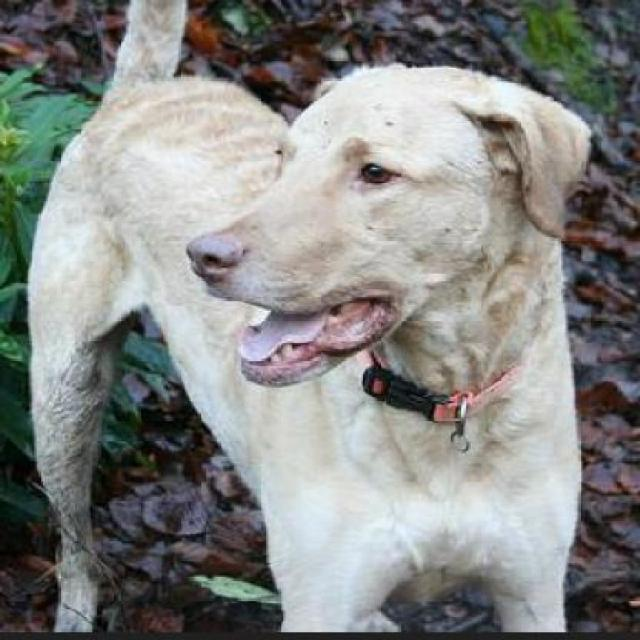Dog: (27, 0, 595, 638)
